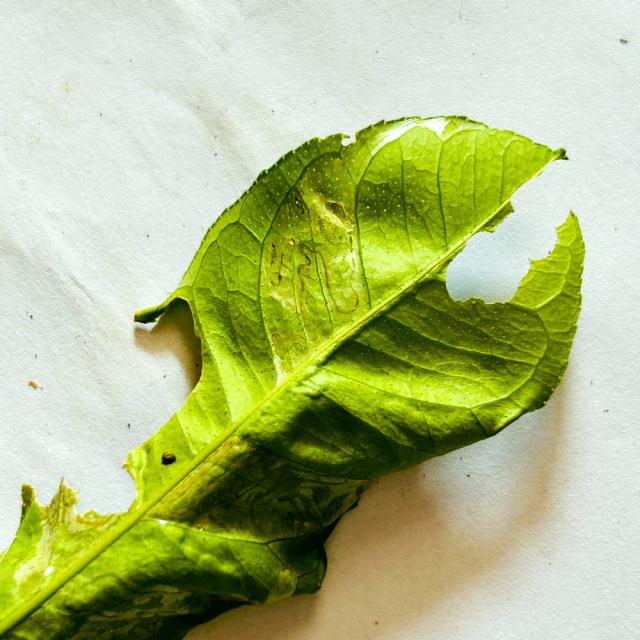Deficiency Leaf: (15, 303, 200, 511), (445, 159, 570, 301)
Lemon: (0, 116, 584, 639)
